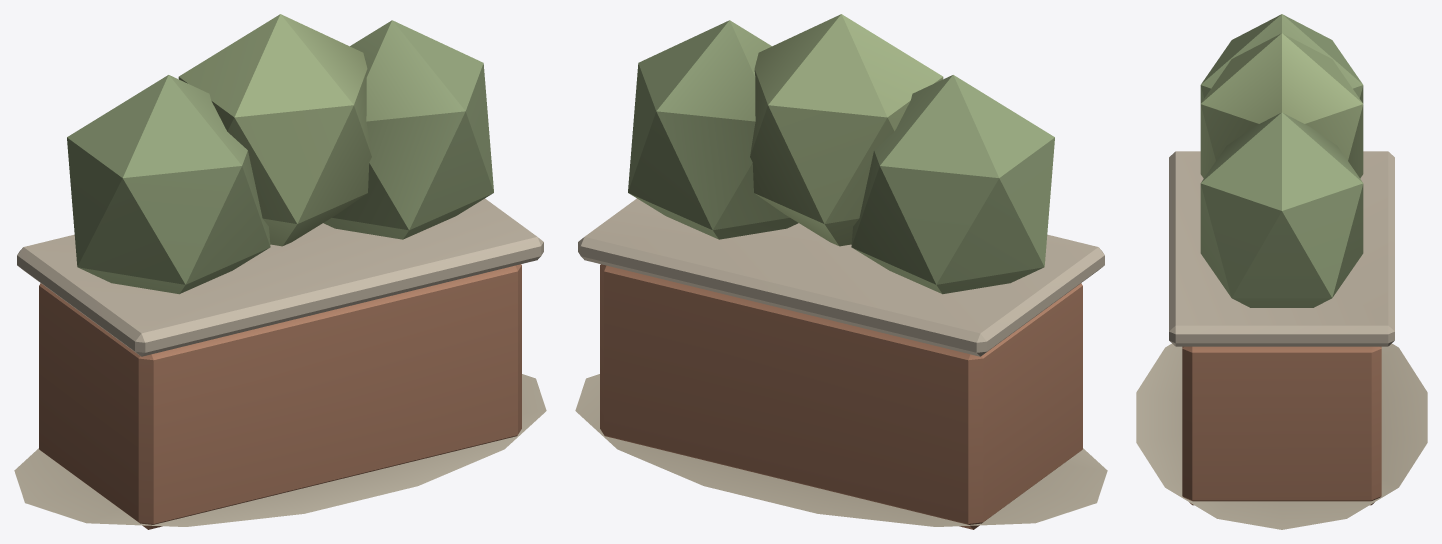
File: planter.glb
The picture shows the model from 3 angles, left to right: view 1: azimuth 30°, elevation 25°; view 2: azimuth 150°, elevation 25°; view 3: azimuth 270°, elevation 25°; orthographic projection. The views are drawn at different scales.
Visible parts, largest first — view 1: planter; view 2: planter; view 3: planter.
Part boxes in pixels (left/top/right/bottom): planter: left=14, top=14, right=546, bottom=529; planter: left=575, top=14, right=1107, bottom=529; planter: left=1136, top=14, right=1427, bottom=529.
Bounding box in the file's own units: 1.6 × 1.3 × 0.8775.
